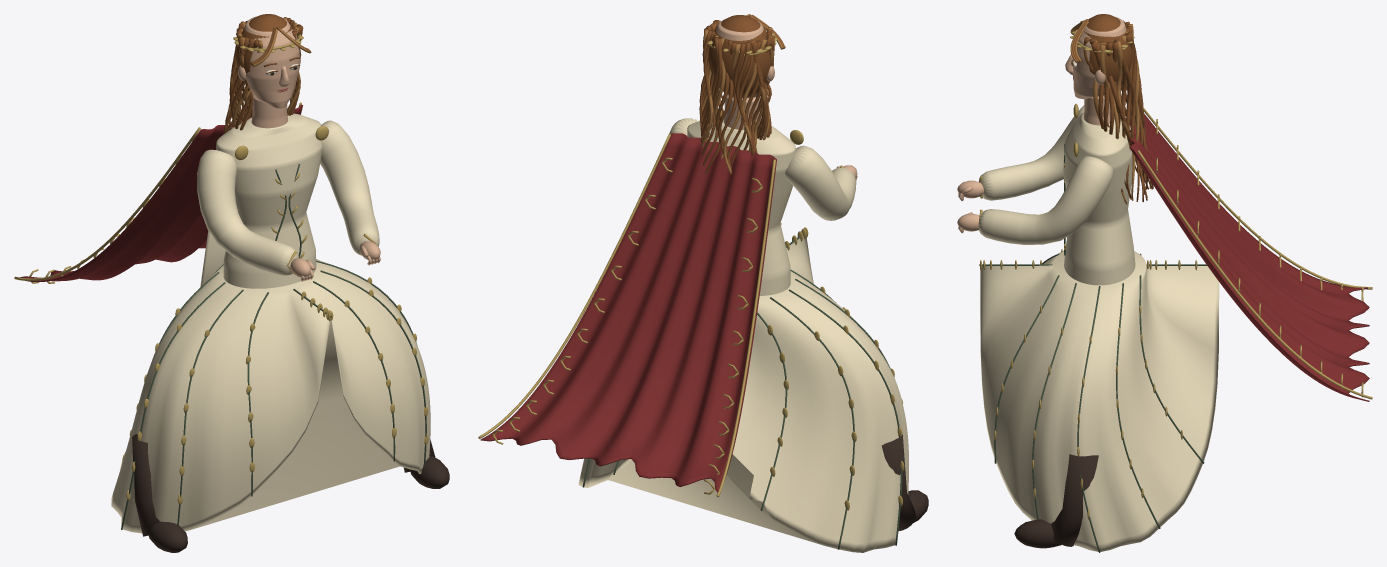
The model's file is princess-v1.glb.
3 views of the same model, side by side, from view 1: azimuth 30°, elevation 25°; view 2: azimuth 150°, elevation 25°; view 3: azimuth 270°, elevation 25° (orthographic). The views are drawn at different scales.
Parts seen in each view (by area): view 1: MorrisPrincess_surface, body_surface, cape_surface, head_surface, armL_surface, armR_surface; view 2: cape_surface, MorrisPrincess_surface, head_surface, body_surface, armL_surface; view 3: MorrisPrincess_surface, cape_surface, body_surface, head_surface, armR_surface, armL_surface.
Part boxes in pixels (bbox=[...]): MorrisPrincess_surface: bbox=[111, 231, 449, 552]; body_surface: bbox=[216, 93, 328, 288]; cape_surface: bbox=[14, 102, 302, 283]; head_surface: bbox=[223, 14, 311, 133]; armL_surface: bbox=[197, 149, 315, 281]; armR_surface: bbox=[320, 120, 380, 265]; cape_surface: bbox=[478, 133, 776, 497]; MorrisPrincess_surface: bbox=[578, 227, 928, 552]; head_surface: bbox=[699, 14, 785, 175]; body_surface: bbox=[687, 95, 803, 295]; armL_surface: bbox=[785, 145, 857, 220]; MorrisPrincess_surface: bbox=[979, 249, 1219, 552]; cape_surface: bbox=[1129, 107, 1372, 401]; body_surface: bbox=[1063, 95, 1135, 285]; head_surface: bbox=[1065, 14, 1153, 204]; armR_surface: bbox=[957, 156, 1113, 244]; armL_surface: bbox=[957, 105, 1084, 200].
Bounding box in the file's own units: 1.01 × 1.55 × 1.25.
